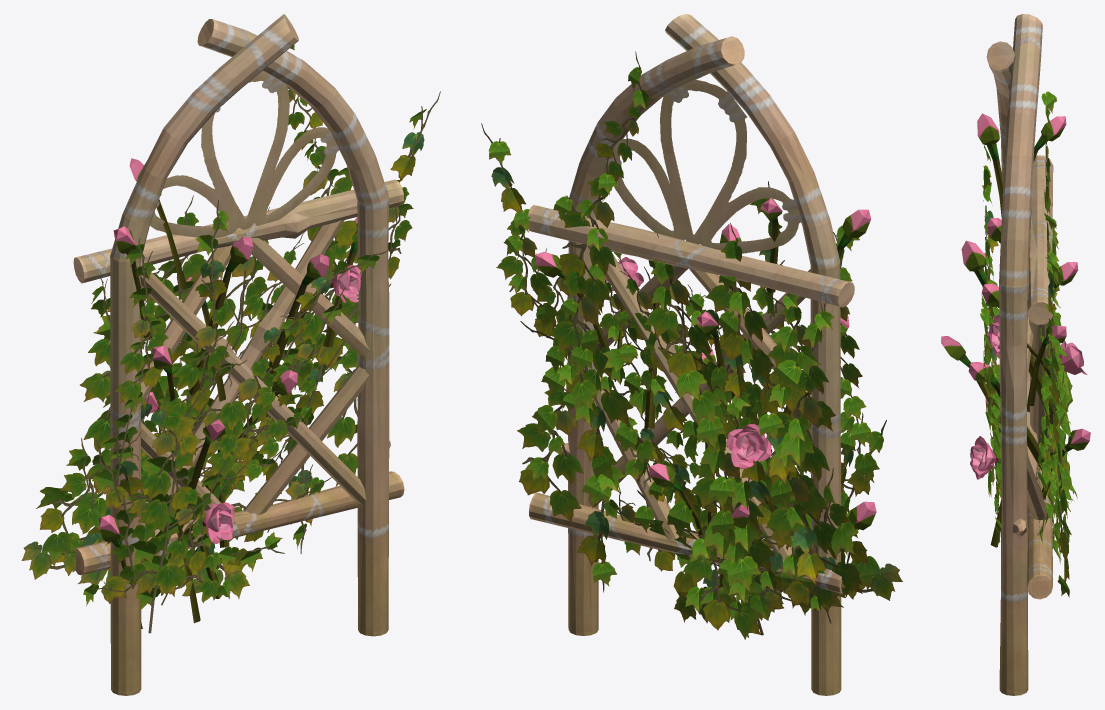
File: P_Rose02.obj
3 views of the same model, side by side, from view 1: azimuth 30°, elevation 25°; view 2: azimuth 150°, elevation 25°; view 3: azimuth 270°, elevation 25° (orthographic). The views are drawn at different scales.
Bounding box in the file's own units: 2.39 × 3.34 × 0.7486.
Materials: 20 (20 with a texture image).
